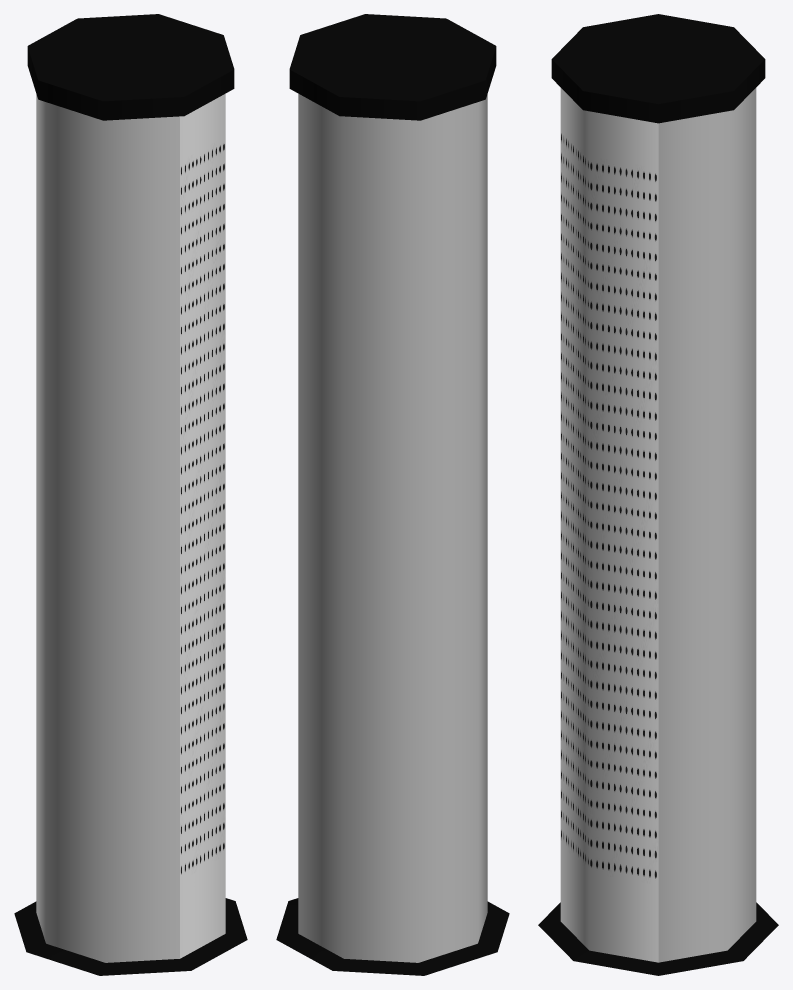
Rendered from obdyv.fbx.
The picture shows the model from 3 angles, left to right: view 1: azimuth 30°, elevation 25°; view 2: azimuth 150°, elevation 25°; view 3: azimuth 270°, elevation 25°; orthographic projection.
Parts seen in each view (by area): view 1: Цилиндр; view 2: Цилиндр; view 3: Цилиндр.
Boxes of the visible parts, <box> form: Цилиндр: <box>14,14,247,975</box>; Цилиндр: <box>276,14,509,975</box>; Цилиндр: <box>538,14,778,975</box>.
Size of the model in its own units: 49.24 by 195 by 49.24.
Materials: 3 (1 with a texture image).
